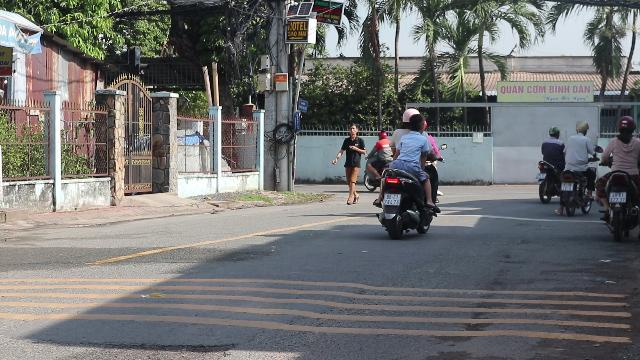helmet: (616, 115, 636, 136), (408, 113, 427, 133), (401, 109, 419, 123)
licenseplate: (383, 194, 401, 204), (610, 192, 626, 202)
motorcyclist: (372, 106, 442, 239), (596, 116, 640, 240)
